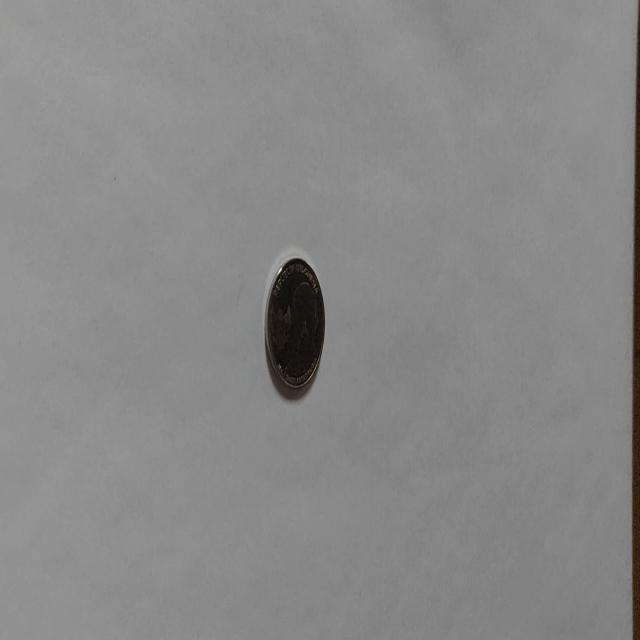seribu rupiah koin: (262, 253, 326, 392)
